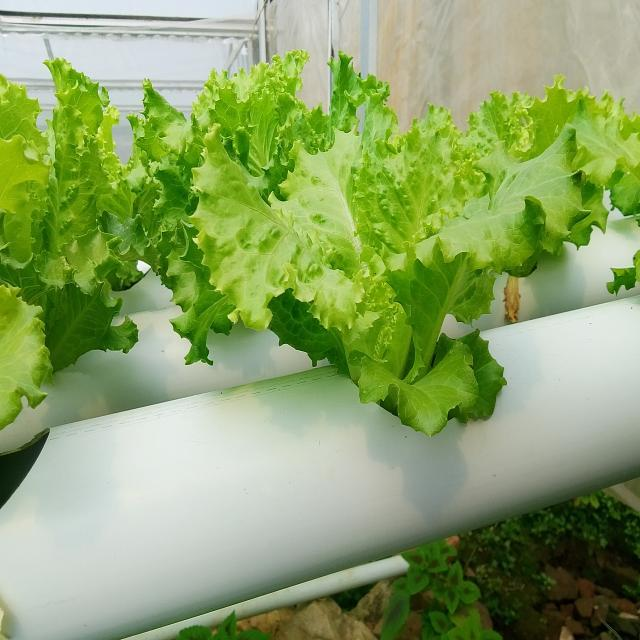Baby: (190, 81, 590, 435)
